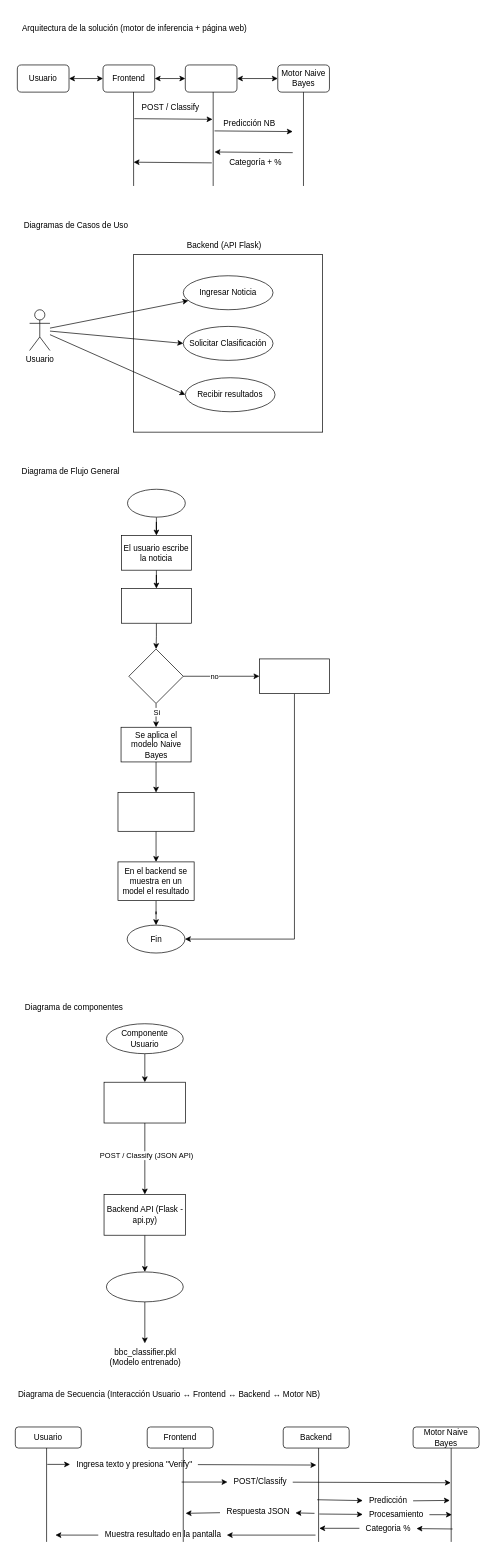
Image size: 491x1555. Some labels were removed from this diagram. The box of each missing label's shape, as (x1, y1, x2, y2) in pixels:
Backend API: (185, 64, 237, 92)
Frontend (React - App.js): (103, 1082, 186, 1123)
Frontend envia la noticia al backend via POST: (121, 588, 191, 623)
Inicio: (127, 489, 185, 517)
Mensaje de Error "No se pudo conectar": (259, 658, 329, 694)
Motor Naive Bayes (train_model): (106, 1271, 183, 1302)
Se envían las dos categorias más probables por un JSON: (117, 792, 194, 831)
Se recibio la solicit?: (128, 648, 183, 703)
